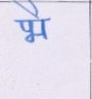ai_matra: (13, 0, 43, 18)
